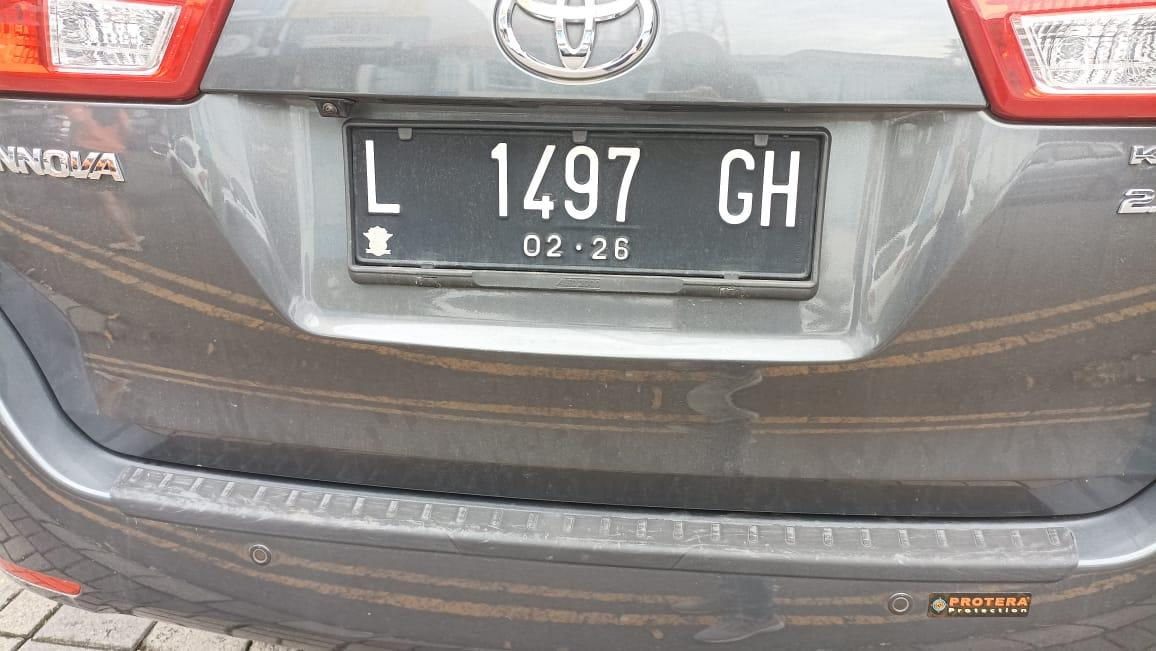plat: (348, 126, 824, 282)
